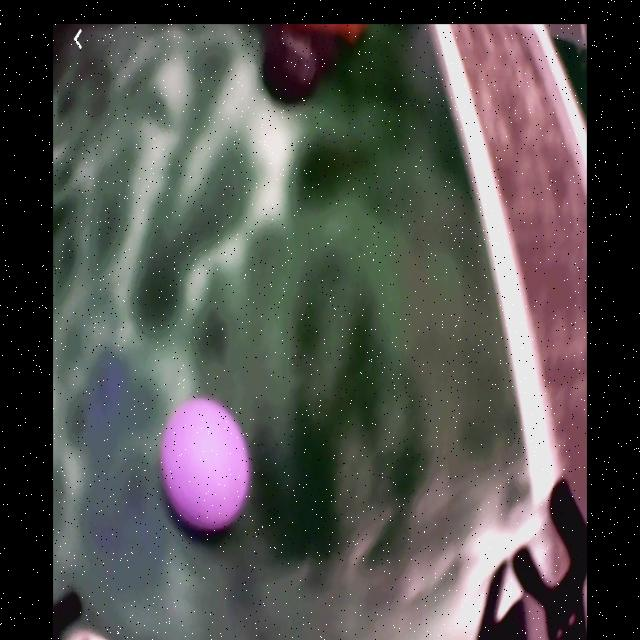ball: (162, 398, 250, 532)
